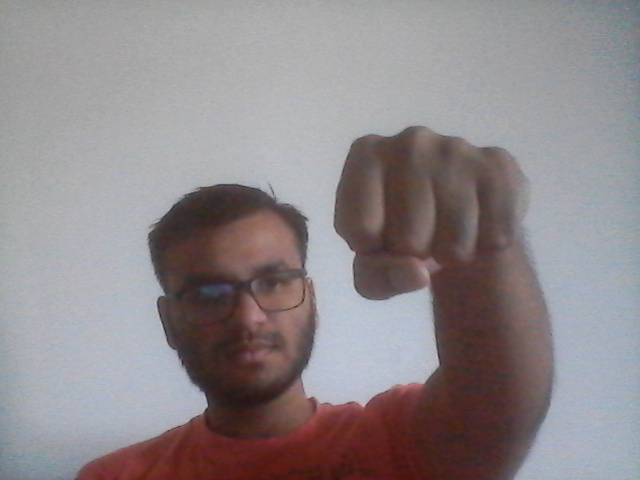Thanks: (326, 116, 551, 305)
